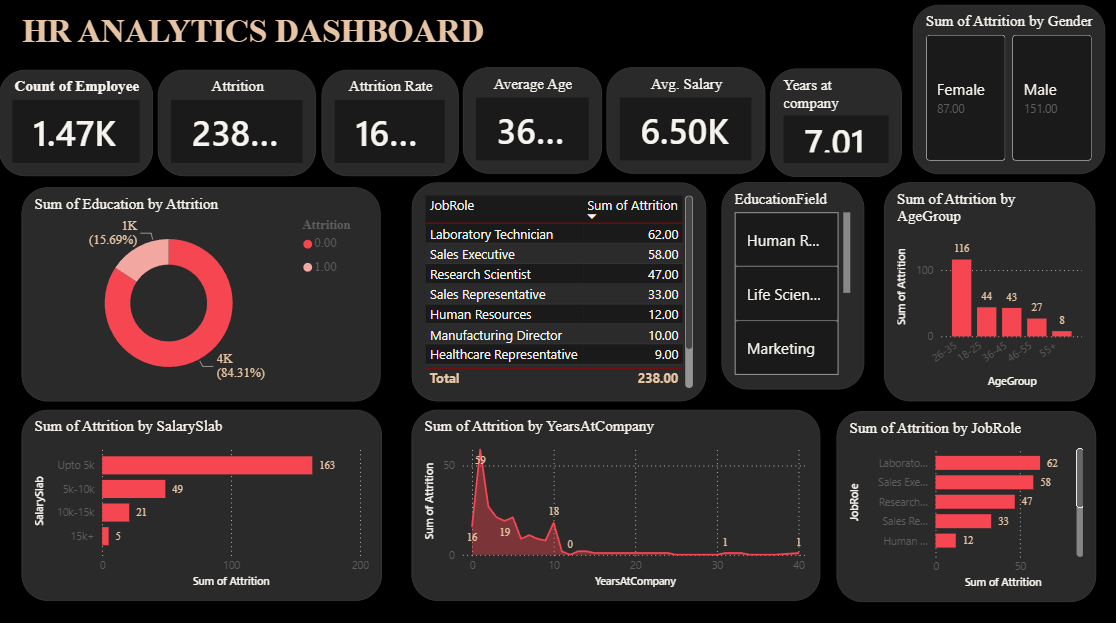

Layout of this report page (visuals, bound fields, positions):
{"tool":"powerbi","page":{"name":"Page 1","canvas":[1280,720],"ordinal":0},"visuals":[{"type":"cardVisual","title":"Count of Employee","fields":{"Data":["Count(HR_Analytics.EmpID)"]},"box":[0,85,176.2,121.2],"z":0},{"type":"cardVisual","title":"Attrition","fields":{"Data":["Sum(HR_Analytics.Attrition)"]},"box":[181.5,85,181,121.5],"z":1000},{"type":"cardVisual","title":"Attrition Rate","fields":{"Data":["Multiply(Avg(HR_Analytics.Attrition), const)"]},"box":[368,85,156.5,121.5],"z":2000},{"type":"cardVisual","title":"Average Age","fields":{"Data":["Avg(HR_Analytics.Age)"]},"box":[530.5,82,159,121.5],"z":3000},{"type":"cardVisual","title":"Avg. Salary","fields":{"Data":["Avg(HR_Analytics.MonthlyIncome)"]},"box":[695,82,181.5,121.5],"z":4000},{"type":"cardVisual","title":"Years at company","fields":{"Data":["Avg(HR_Analytics.YearsAtCompany)"]},"box":[881.4,82.1,150,124.3],"z":5000},{"type":"advancedSlicerVisual","fields":{"Values":["HR_Analytics.Gender"],"Label":["Sum(HR_Analytics.Attrition)"]},"box":[1043.6,10,220,193.6],"z":6000},{"type":"donutChart","fields":{"Category":["HR_Analytics.Attrition"],"Y":["Sum(HR_Analytics.Education)"]},"box":[25,218.3,410,245],"z":7000},{"type":"tableEx","fields":{"Values":["HR_Analytics.JobRole","Sum(HR_Analytics.Attrition)"]},"box":[471.4,212.9,337.1,250],"z":8000},{"type":"columnChart","fields":{"Category":["HR_Analytics.AgeGroup"],"Y":["Sum(HR_Analytics.Attrition)"]},"box":[1011.4,212.9,241.4,250],"z":9000},{"type":"clusteredBarChart","fields":{"Category":["HR_Analytics.SalarySlab"],"Y":["Sum(HR_Analytics.Attrition)"]},"box":[25,473.3,411.7,218.3],"z":10000},{"type":"areaChart","fields":{"Category":["HR_Analytics.YearsAtCompany"],"Y":["Sum(HR_Analytics.Attrition)"]},"box":[471.4,472.9,467.1,218.6],"z":11000},{"type":"clusteredBarChart","fields":{"Category":["HR_Analytics.JobRole"],"Y":["Sum(HR_Analytics.Attrition)"]},"box":[957.1,474.3,297.1,218.6],"z":12000},{"type":"textbox","box":[21.4,12.9,585.7,55.7],"z":13000},{"type":"advancedSlicerVisual","fields":{"Values":["HR_Analytics.EducationField"]},"box":[825.7,212.9,162.9,237.1],"z":14000}]}

Visuals, with their boxes in screenshot pixels (x1, y1, x2, y2), scaled from the page's 1280x720 canvas onto the 1116x623 screenshot:
"Count of Employee" cardVisual: left=0, top=74, right=154, bottom=178
"Attrition" cardVisual: left=158, top=74, right=316, bottom=179
"Attrition Rate" cardVisual: left=321, top=74, right=457, bottom=179
"Average Age" cardVisual: left=463, top=71, right=601, bottom=176
"Avg. Salary" cardVisual: left=606, top=71, right=764, bottom=176
"Years at company" cardVisual: left=768, top=71, right=899, bottom=179
advancedSlicerVisual - HR_Analytics.Gender x Sum(HR_Analytics.Attrition): left=910, top=9, right=1102, bottom=176
donutChart - HR_Analytics.Attrition x Sum(HR_Analytics.Education): left=22, top=189, right=379, bottom=401
tableEx - HR_Analytics.JobRole x Sum(HR_Analytics.Attrition): left=411, top=184, right=705, bottom=401
columnChart - HR_Analytics.AgeGroup x Sum(HR_Analytics.Attrition): left=882, top=184, right=1092, bottom=401
clusteredBarChart - HR_Analytics.SalarySlab x Sum(HR_Analytics.Attrition): left=22, top=410, right=381, bottom=598
areaChart - HR_Analytics.YearsAtCompany x Sum(HR_Analytics.Attrition): left=411, top=409, right=818, bottom=598
clusteredBarChart - HR_Analytics.JobRole x Sum(HR_Analytics.Attrition): left=834, top=410, right=1094, bottom=600
textbox: left=19, top=11, right=529, bottom=59
advancedSlicerVisual - HR_Analytics.EducationField: left=720, top=184, right=862, bottom=389
